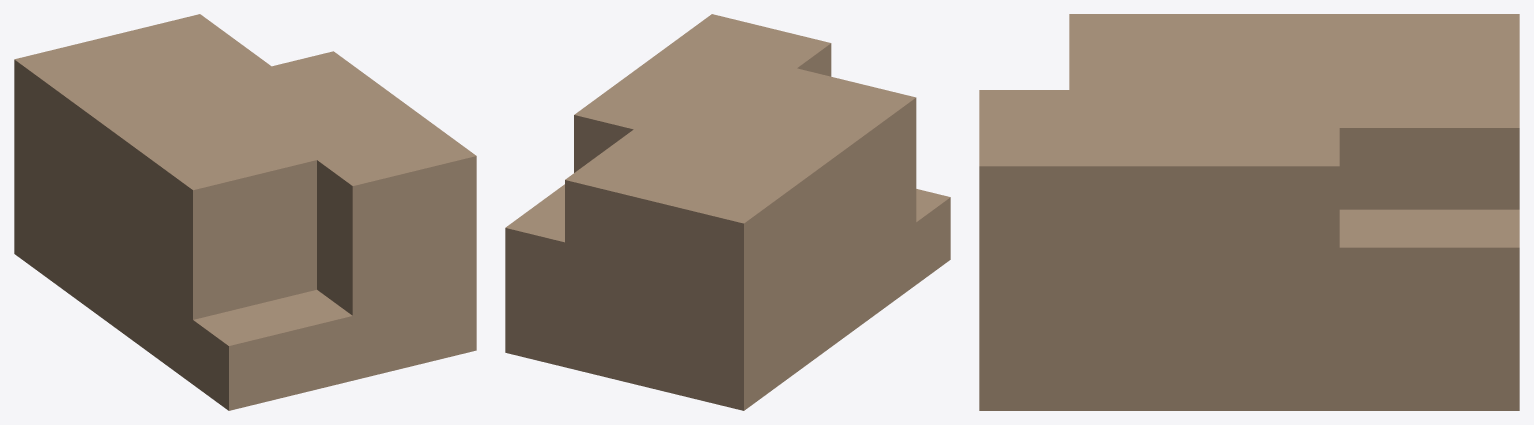
Rendered from BS_Stone_1.fbx.
3 views of the same model, side by side, from view 1: azimuth 30°, elevation 25°; view 2: azimuth 150°, elevation 25°; view 3: azimuth 270°, elevation 25° (orthographic). The views are drawn at different scales.
Parts seen in each view (by area): view 1: BS_Stone_1; view 2: BS_Stone_1; view 3: BS_Stone_1.
Part boxes in pixels (x1=…): BS_Stone_1: x1=14, y1=14, x2=476, y2=410; BS_Stone_1: x1=505, y1=14, x2=950, y2=410; BS_Stone_1: x1=979, y1=14, x2=1519, y2=410.
Size of the model in its own units: 10 by 15 by 7.5.
